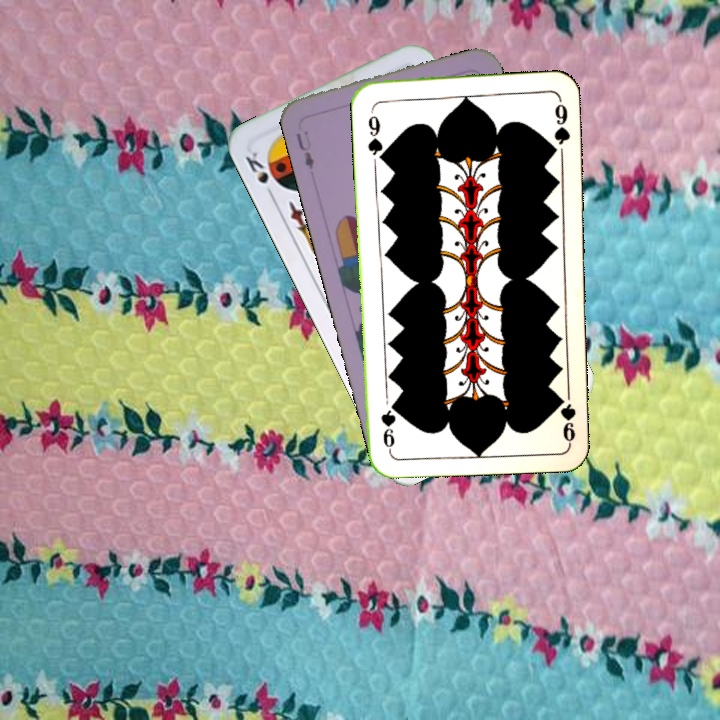EU: (292, 129, 317, 172)
G9: (363, 103, 387, 162), (556, 393, 579, 445)
SK: (241, 147, 285, 202)
